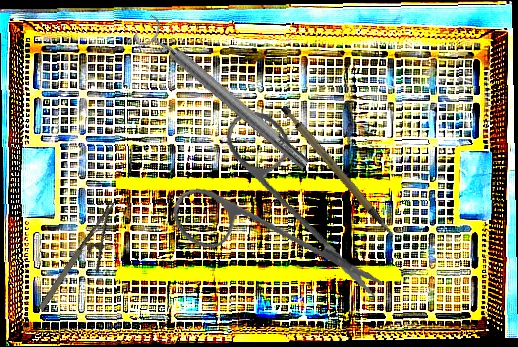Fixation Ring: (130, 11, 317, 181)
Iris Scissors: (161, 98, 385, 323)
Needle Holder: (34, 199, 138, 324)
Scalpel Handle: (278, 92, 396, 253)
